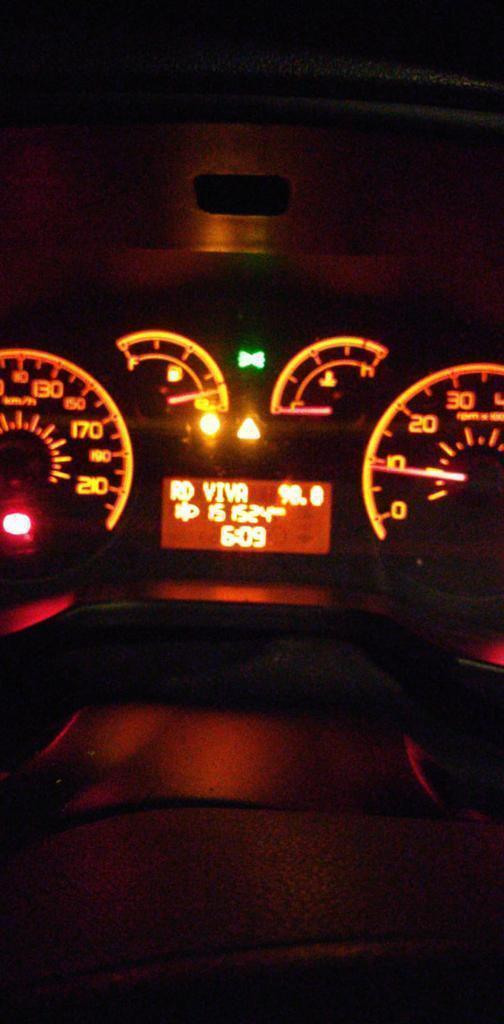,: (300, 497, 306, 505)
0: (309, 484, 325, 506), (240, 525, 252, 547)
1: (173, 502, 181, 520), (229, 504, 236, 522), (206, 503, 213, 521)
2: (248, 503, 259, 523)
4: (259, 505, 271, 523)
5: (213, 503, 226, 522), (236, 503, 248, 523)
6: (219, 524, 234, 547)
8: (290, 483, 301, 505)
9: (252, 525, 266, 548), (276, 483, 289, 505)
X: (235, 481, 249, 503), (169, 479, 182, 501), (202, 480, 215, 502), (182, 479, 194, 501), (224, 480, 235, 502), (215, 480, 224, 502), (277, 506, 286, 516), (234, 528, 239, 544), (271, 503, 277, 516)
odometer: (157, 473, 334, 558)
